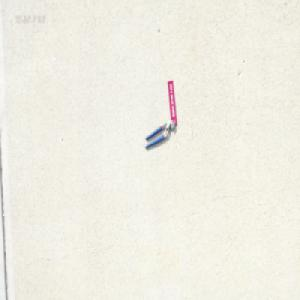Label: (167, 78, 177, 125)
Pliers: (144, 119, 175, 149)
